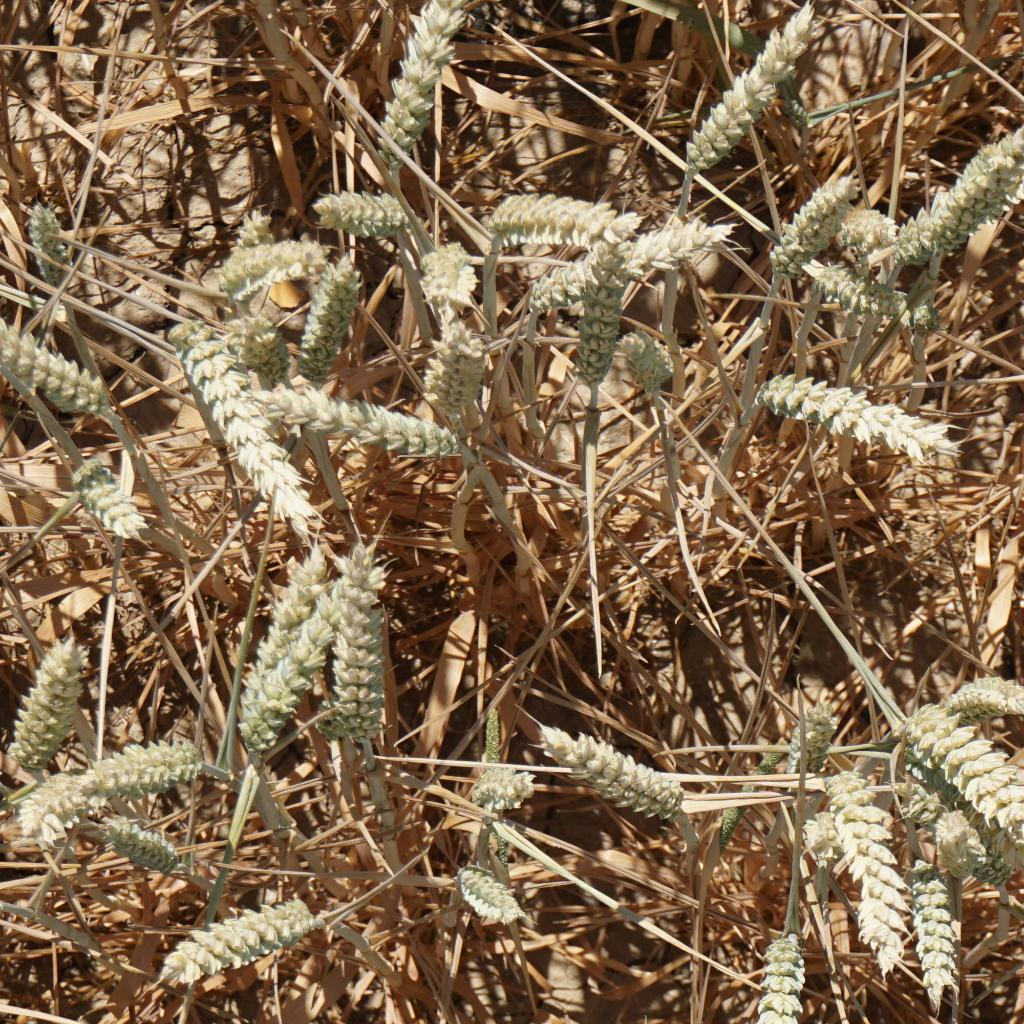0-0: (181, 330, 313, 549), (671, 7, 791, 177), (891, 685, 1024, 833), (752, 354, 925, 466), (262, 368, 454, 468), (826, 758, 907, 972), (535, 720, 702, 821), (891, 123, 1024, 244), (0, 311, 125, 437), (368, 0, 458, 171), (238, 570, 330, 734), (159, 896, 323, 984), (514, 230, 722, 295), (65, 726, 220, 791), (336, 563, 391, 738), (86, 805, 193, 888), (299, 256, 372, 376), (419, 321, 492, 435), (488, 167, 602, 238), (760, 169, 848, 258), (15, 637, 78, 756), (0, 750, 88, 835), (746, 921, 815, 1024), (572, 251, 626, 379), (307, 175, 413, 240), (78, 454, 149, 551), (204, 228, 303, 297), (911, 878, 966, 994), (451, 854, 533, 929), (225, 314, 318, 378), (929, 795, 992, 884), (21, 188, 78, 283), (413, 232, 478, 311), (779, 689, 842, 770), (828, 200, 903, 267), (945, 659, 1024, 720), (468, 750, 535, 815), (807, 253, 870, 313), (785, 799, 835, 866), (630, 338, 685, 397), (0, 687, 21, 801)
